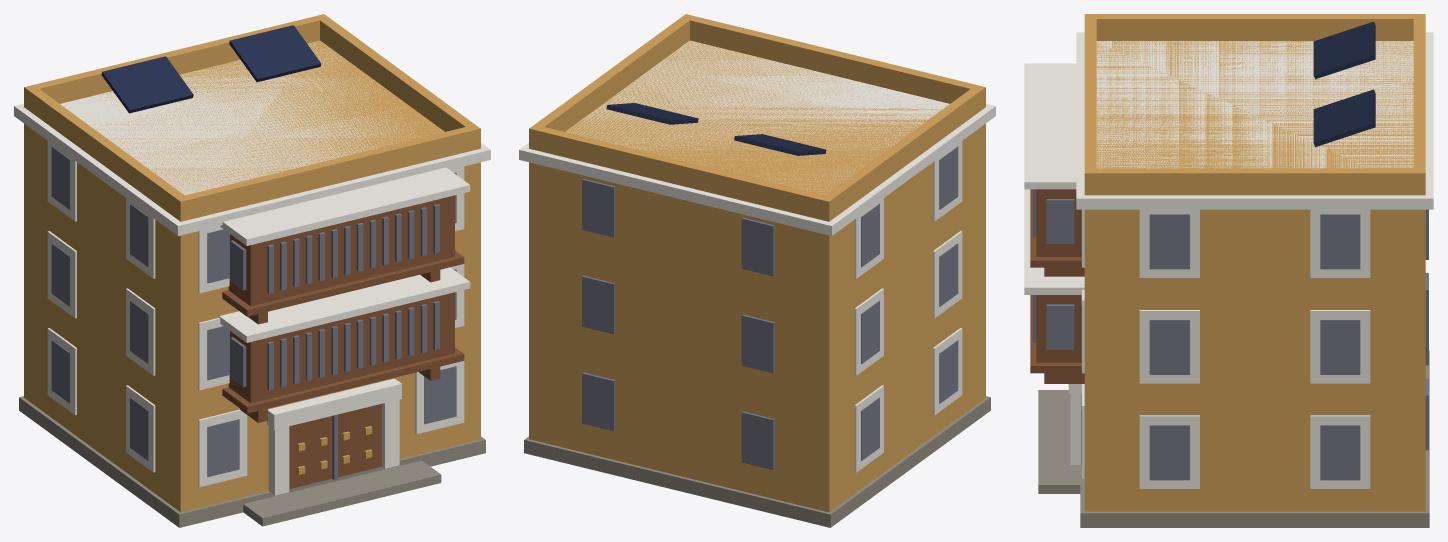
Rendered from house-1x1-3f-quincha-a-solar.glb.
3 views of the same model, side by side, from view 1: azimuth 30°, elevation 25°; view 2: azimuth 150°, elevation 25°; view 3: azimuth 270°, elevation 25° (orthographic). The views are drawn at different scales.
Visible parts, largest first — view 1: house-1x1-3f-quincha-a-solar; view 2: house-1x1-3f-quincha-a-solar; view 3: house-1x1-3f-quincha-a-solar.
Part boxes in pixels (x1=…): house-1x1-3f-quincha-a-solar: x1=14, y1=14, x2=490, y2=527; house-1x1-3f-quincha-a-solar: x1=519, y1=14, x2=995, y2=527; house-1x1-3f-quincha-a-solar: x1=1024, y1=14, x2=1433, y2=527.
Size of the model in its own units: 0.98 by 1.03 by 1.02.
1 material, 1 textured.
